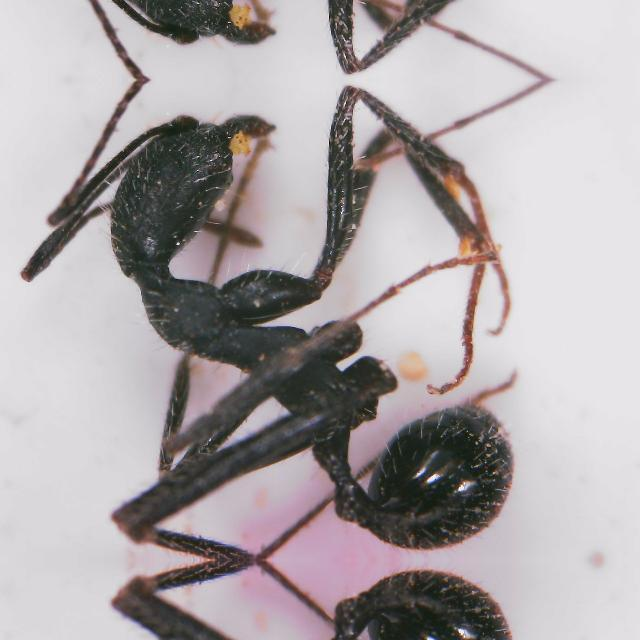Apheanogaster: (16, 102, 598, 560)
